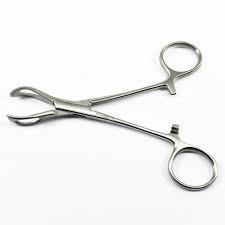Lane Tissue Forceps: (7, 40, 217, 194)
